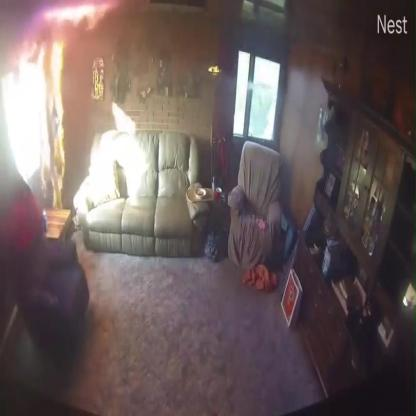fire: (35, 31, 66, 208), (32, 2, 117, 30)
